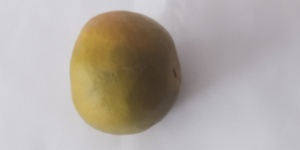BAD: (68, 11, 185, 136)
